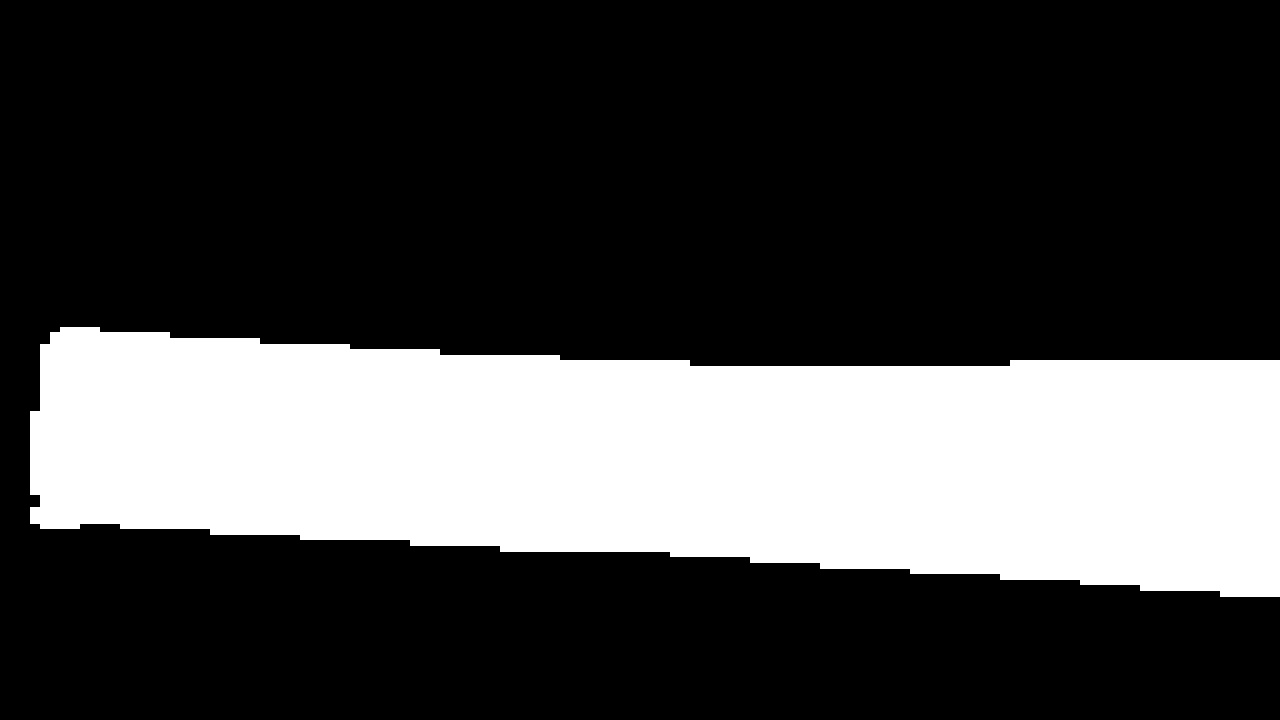Turbine: (25, 293, 1278, 616)
